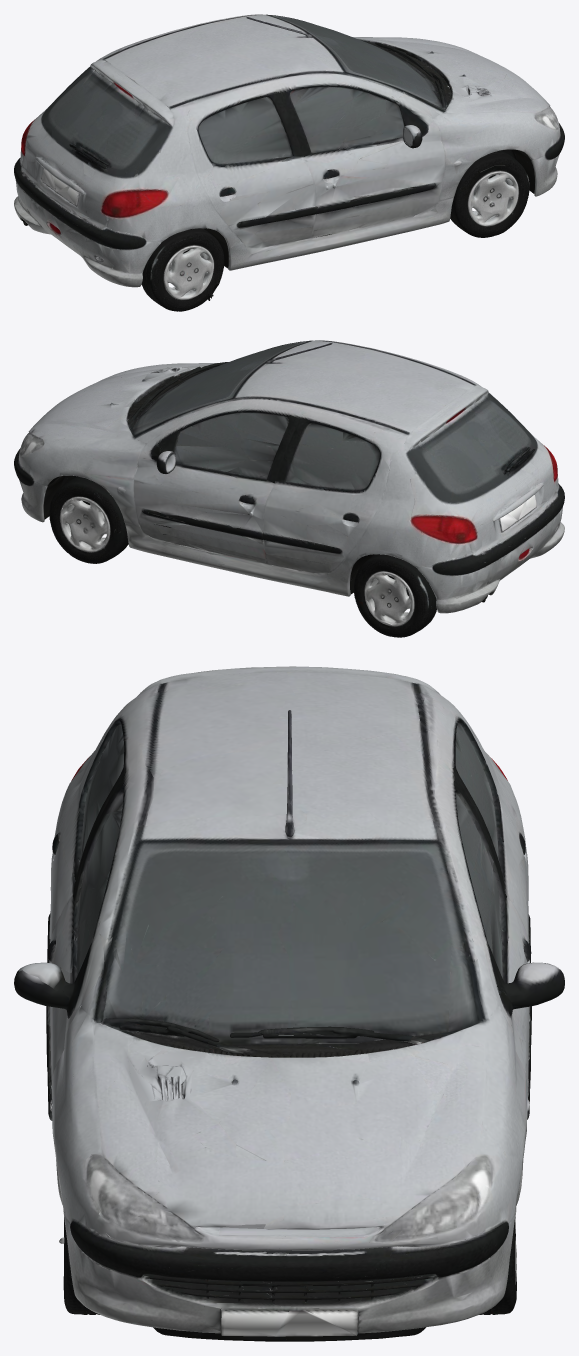
File: pampeiro__01a1697e.glb
3 renders of one model, top to bottom at view 1: azimuth 30°, elevation 25°; view 2: azimuth 150°, elevation 25°; view 3: azimuth 270°, elevation 25°, orthographic. The views are drawn at different scales.
Visible parts, largest first — view 1: base; view 2: base; view 3: base.
Boxes of the visible parts, box(x1,y1,x2,y2) form: base: box(14, 14, 564, 311); base: box(14, 340, 564, 637); base: box(14, 666, 564, 1341).
Size of the model in its own units: 3.83 by 1.69 by 2.
1 material, 1 textured.
